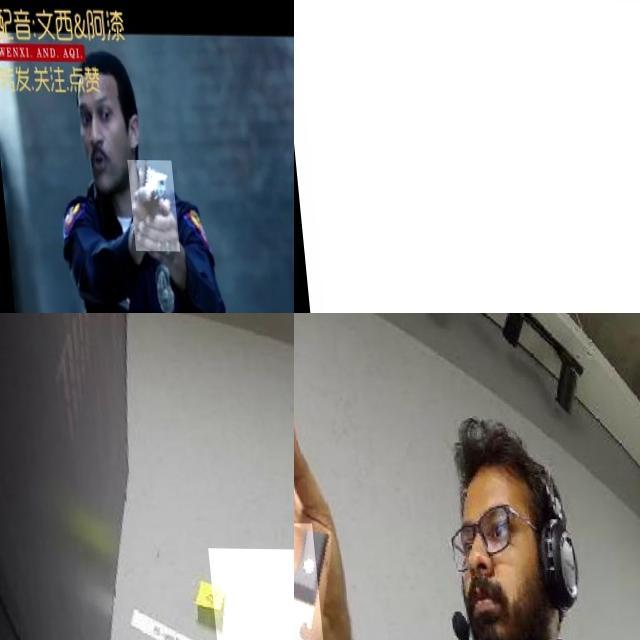-: (294, 0, 640, 313)
gun-knife-thesis - v11 Yolov5 augmented: (124, 160, 176, 250)
